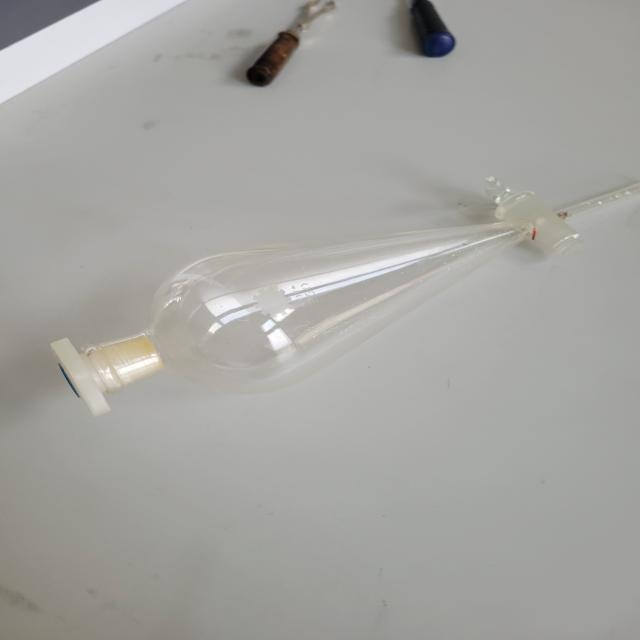Separating_Funnel: (30, 146, 640, 440)
